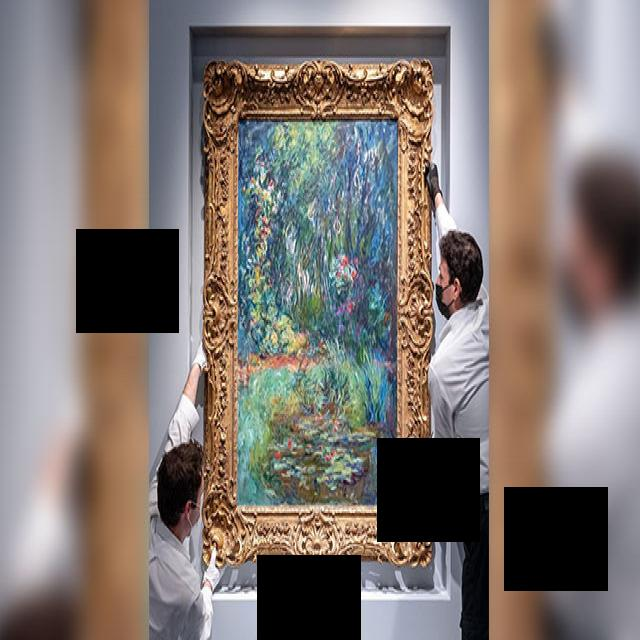Tablo: (234, 116, 401, 510)
